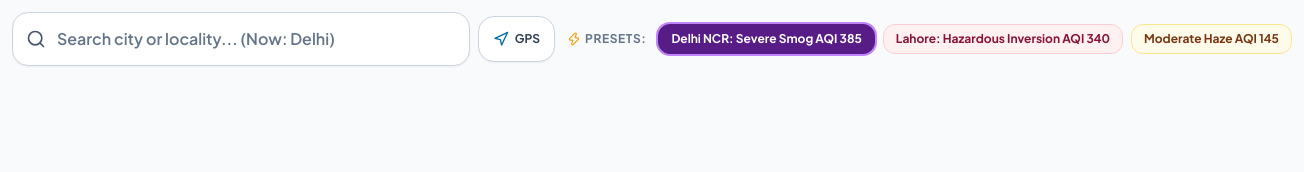
components/CitySelector detailed branches › displays search error when geocoding network fails
Type "Faulty" into the dropdown at x=241, y=39, box x1=12 y1=12 x2=470 y2=66
Wait 400 ms
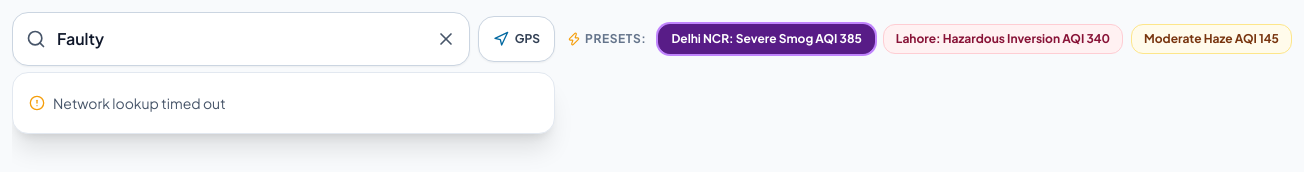
Check: the text "Network lookup timed out" is shown, box x1=53 y1=93 x2=226 y2=113
